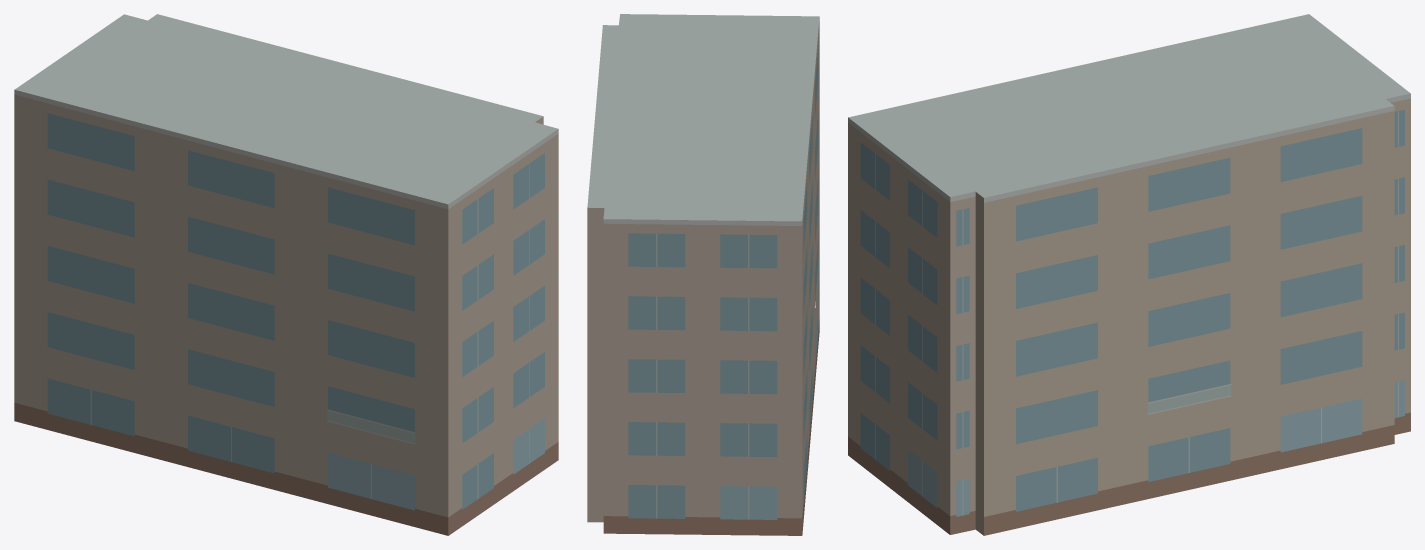
File: survey-upis-32774471.glb
3 renders of one model, left to right at view 1: azimuth 30°, elevation 25°; view 2: azimuth 150°, elevation 25°; view 3: azimuth 270°, elevation 25°, orthographic. The views are drawn at different scales.
Visible parts, largest first — view 1: survey-upis-32774471.tmp; view 2: survey-upis-32774471.tmp; view 3: survey-upis-32774471.tmp.
Part boxes in pixels (bbox=[...]): survey-upis-32774471.tmp: bbox=[14, 14, 558, 535]; survey-upis-32774471.tmp: bbox=[587, 14, 819, 535]; survey-upis-32774471.tmp: bbox=[848, 14, 1410, 535].
Bounding box in the file's own units: 19.33 × 16.55 × 24.99.
